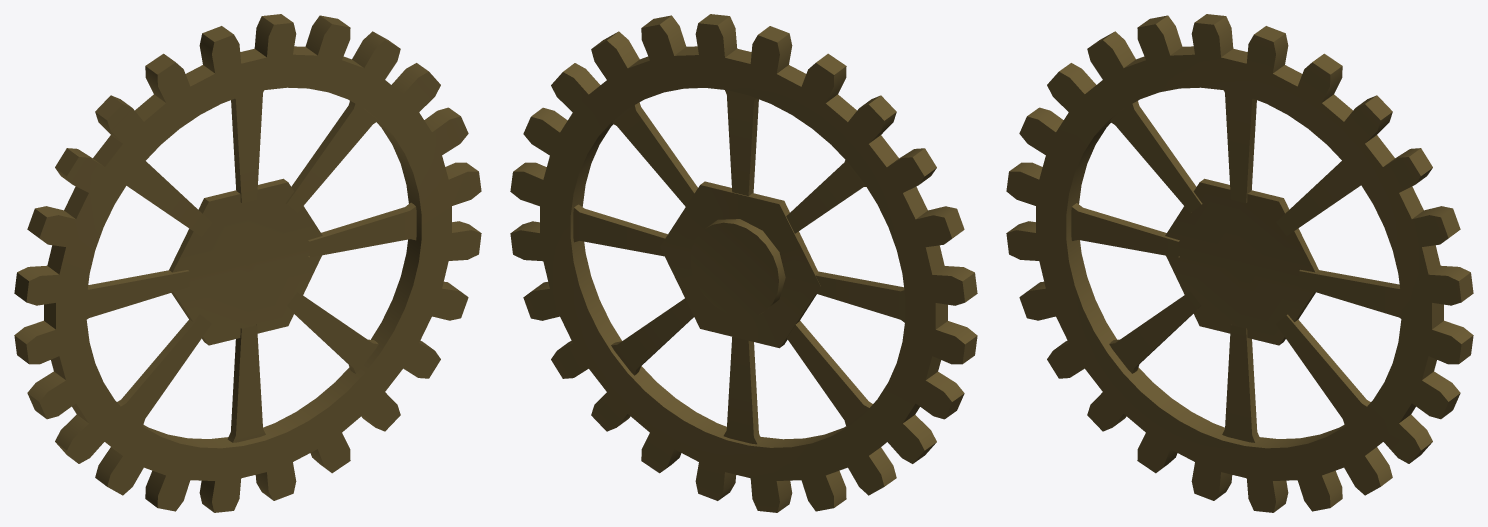
The model's file is SM_gearmid001.fbx.
The picture shows the model from 3 angles, left to right: view 1: azimuth 30°, elevation 25°; view 2: azimuth 150°, elevation 25°; view 3: azimuth 330°, elevation 25°; orthographic projection.
Parts seen in each view (by area): view 1: gear_low; view 2: gear_low; view 3: gear_low.
Boxes of the visible parts, x1,y1,x2,y2 form: gear_low: [14, 14, 481, 512]; gear_low: [510, 14, 977, 512]; gear_low: [1006, 14, 1473, 512].
Bounding box in the file's own units: 55.74 × 55.74 × 3.28.
